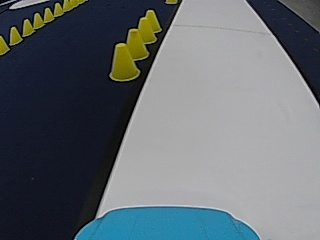cone: (108, 41, 139, 81), (123, 28, 148, 61), (135, 17, 155, 43), (142, 8, 161, 33), (9, 25, 22, 44), (0, 35, 10, 54), (22, 18, 33, 35), (32, 12, 43, 28), (43, 7, 53, 21), (53, 2, 62, 16)
